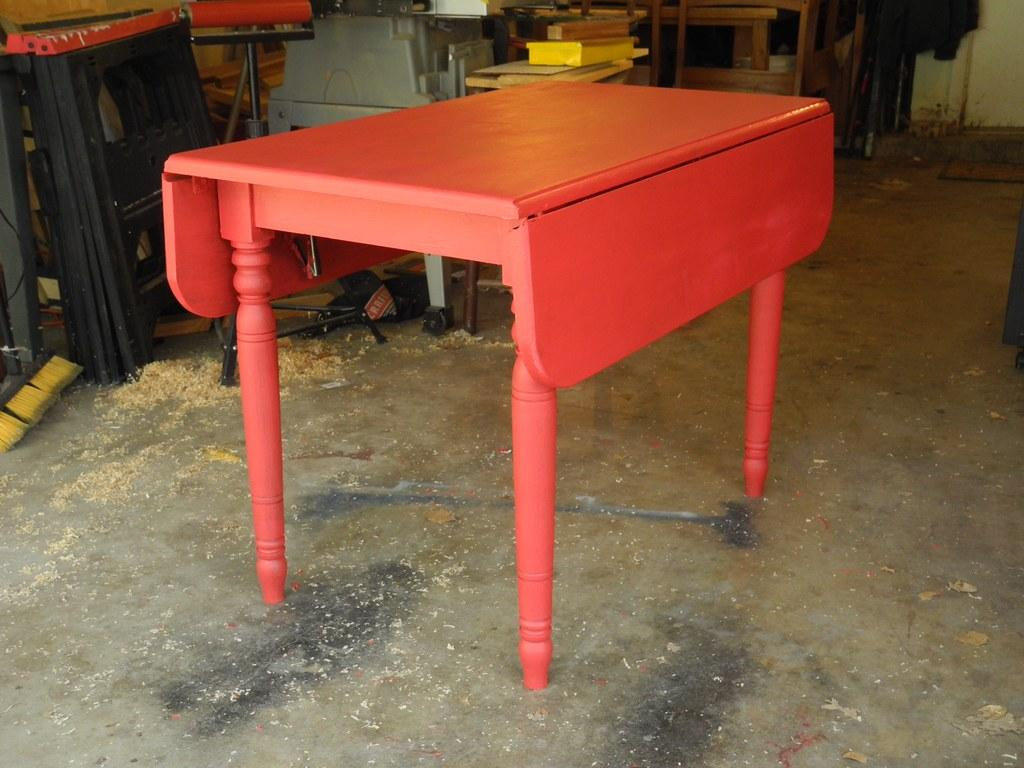table: (162, 79, 837, 691)
